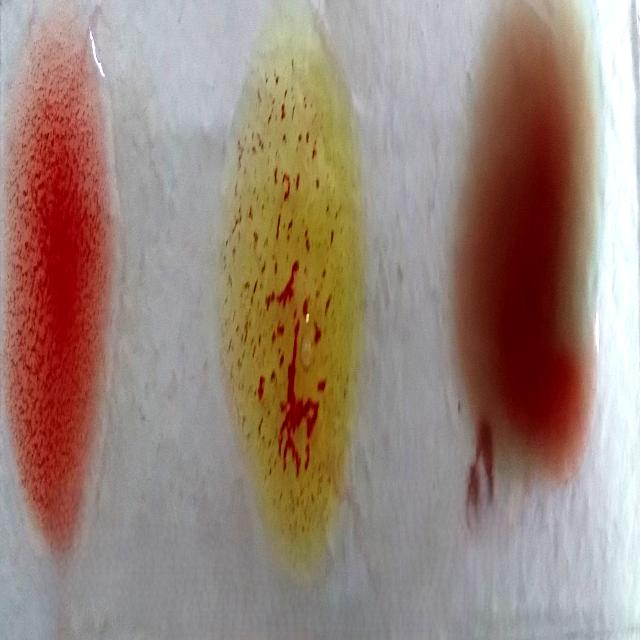B: (236, 34, 351, 570)
D: (13, 18, 109, 558)
